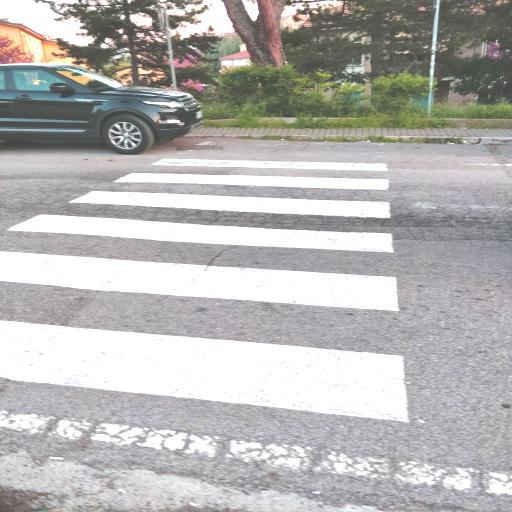crosswalk: (5, 186, 406, 262)
